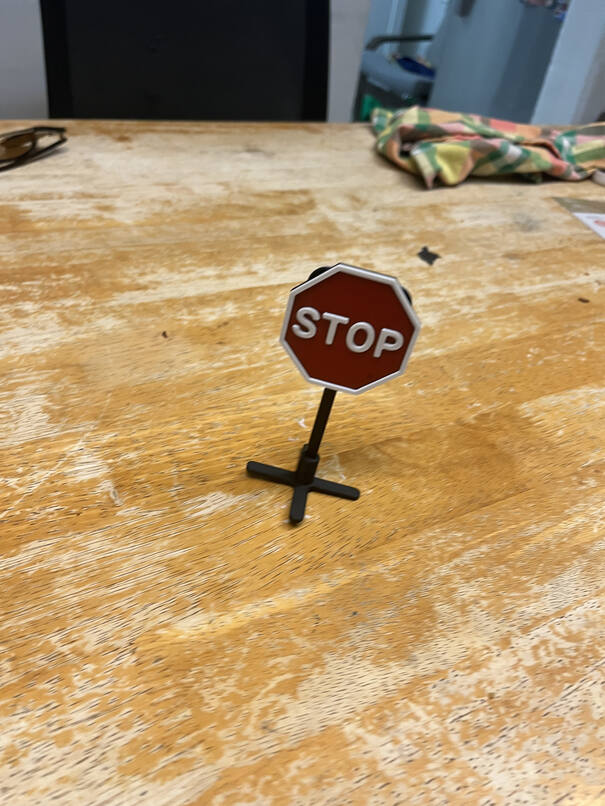sign_stop: (280, 258, 423, 397)
